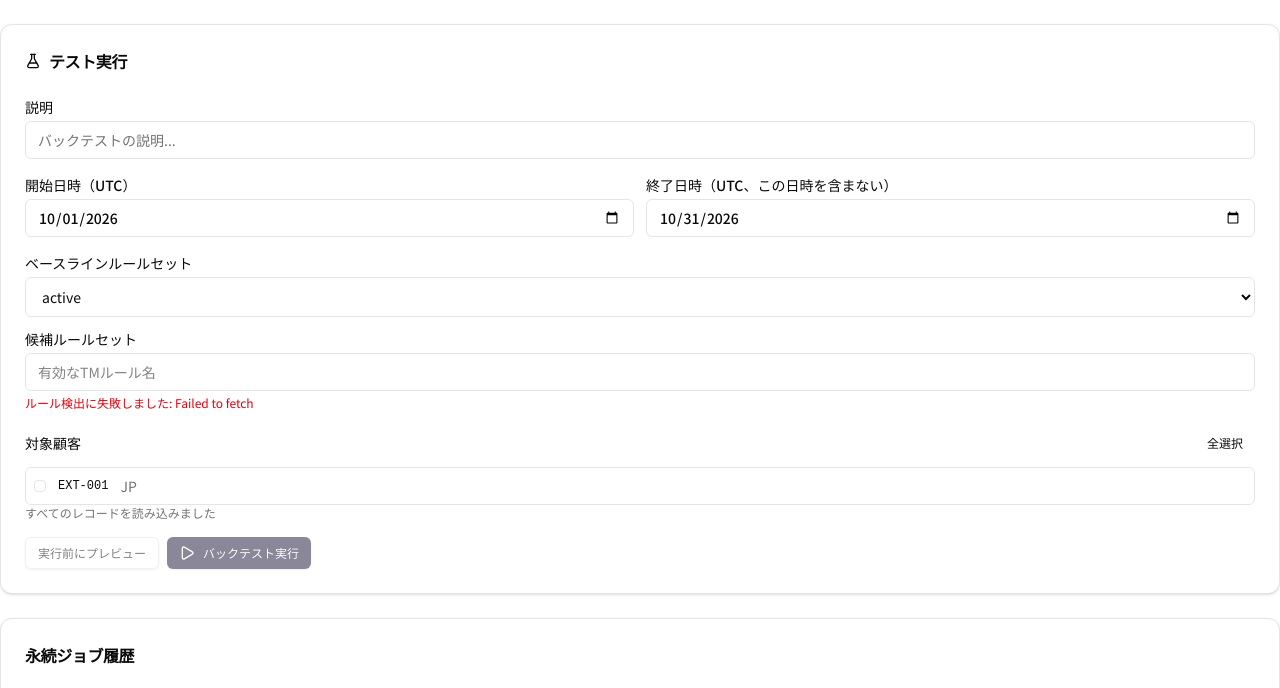
Test: durable backtest polling › shows a polling error and can resume the same job
Step 1. Click the text "EXT-001" → (83, 486), box [58, 478, 108, 494]
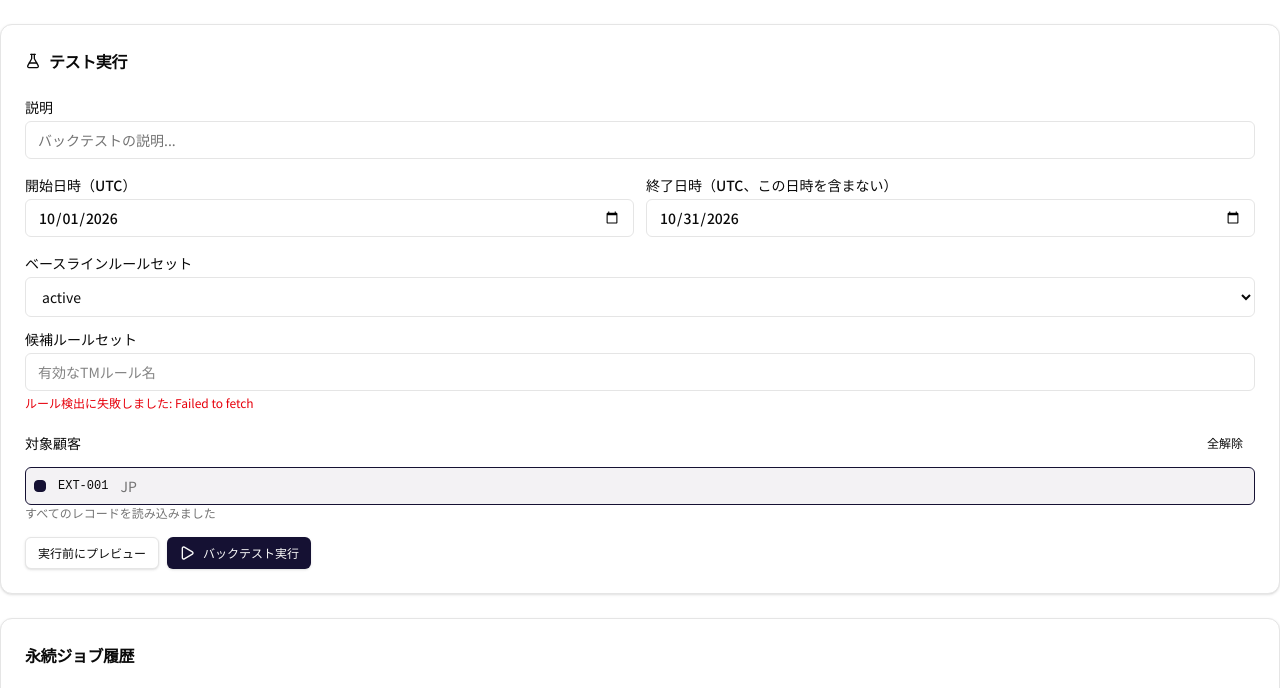
Step 2. Type "candidate" into the field labelled "候補ルールセット" → (640, 372), box [25, 353, 1255, 391]
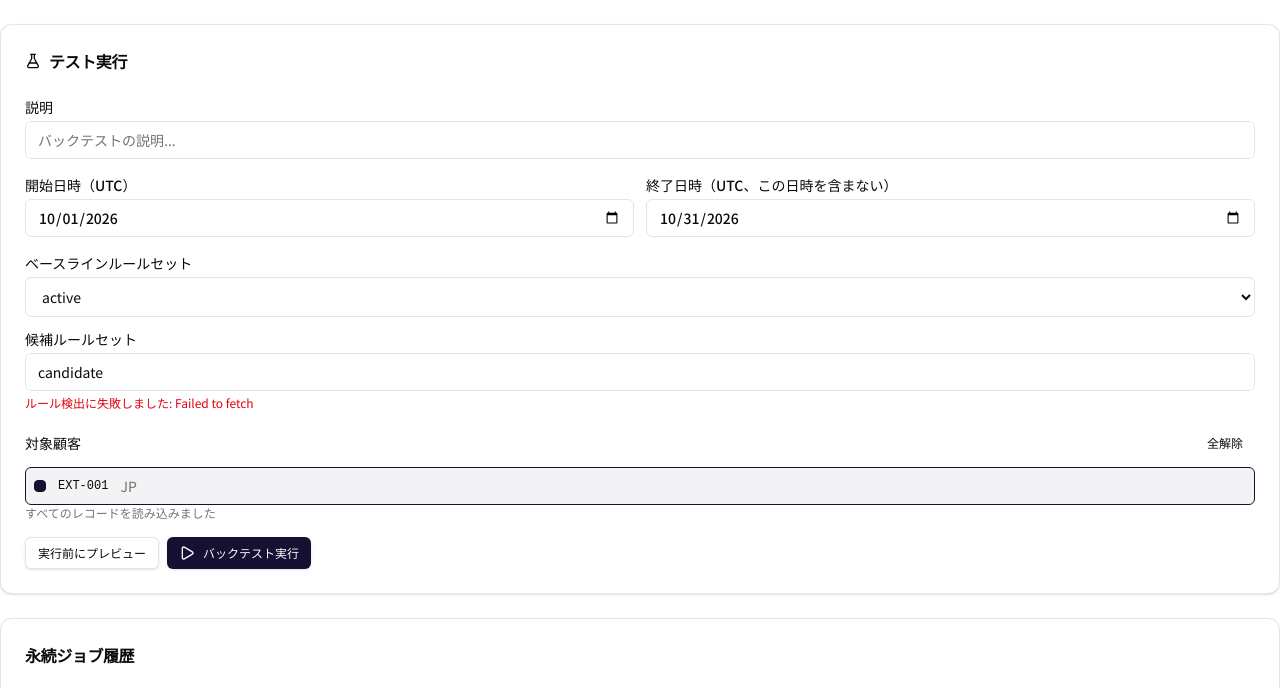
Step 3. Click the button "バックテスト実行" → (239, 553), box [167, 537, 311, 569]
Wait 1000 ms
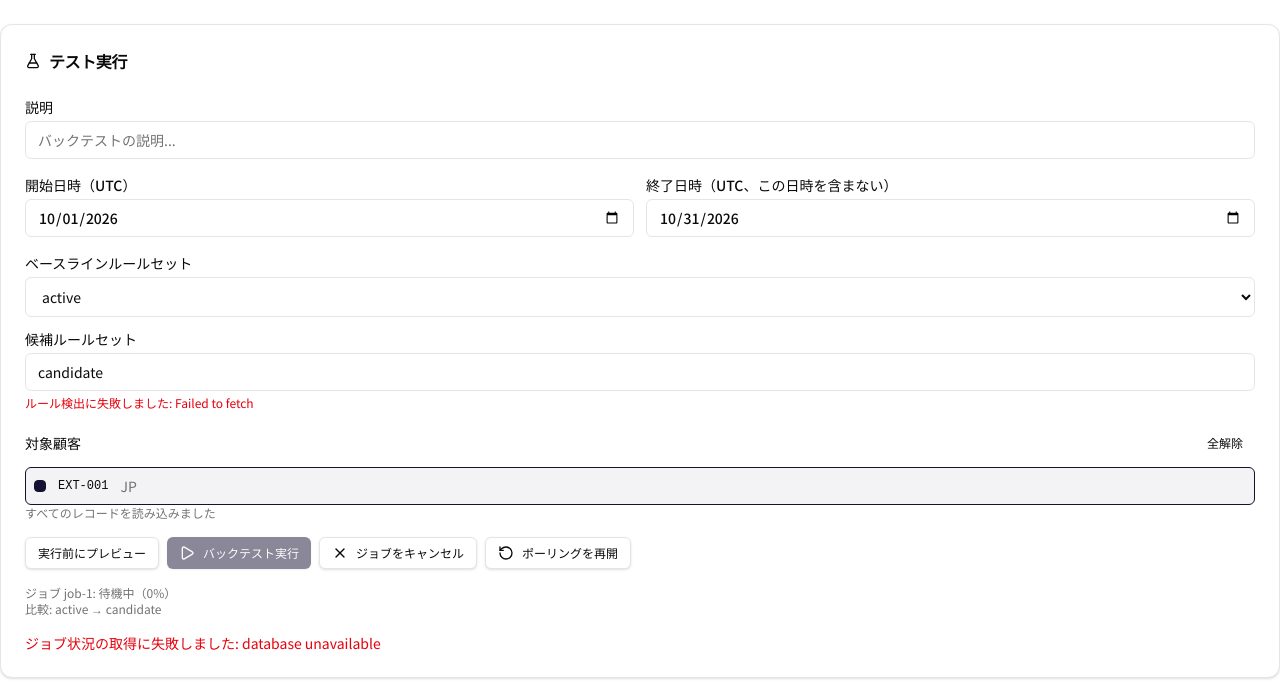
Now the message shows "ジョブ状況の取得に失敗しました", box [25, 633, 235, 653]
Step 4. Click the button "ポーリングを再開" → (558, 553), box [485, 537, 631, 569]
Wait 1000 ms
(page scrolled)
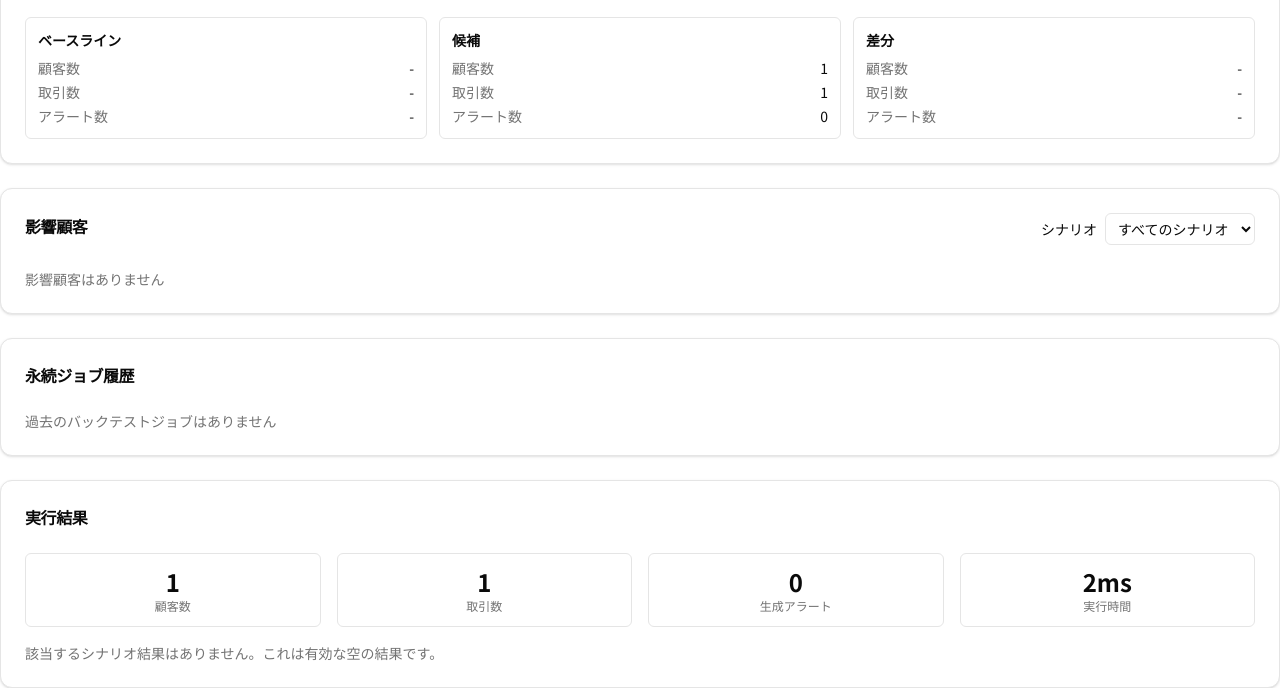
Now the text "実行結果" is shown, box [25, 505, 87, 529]
